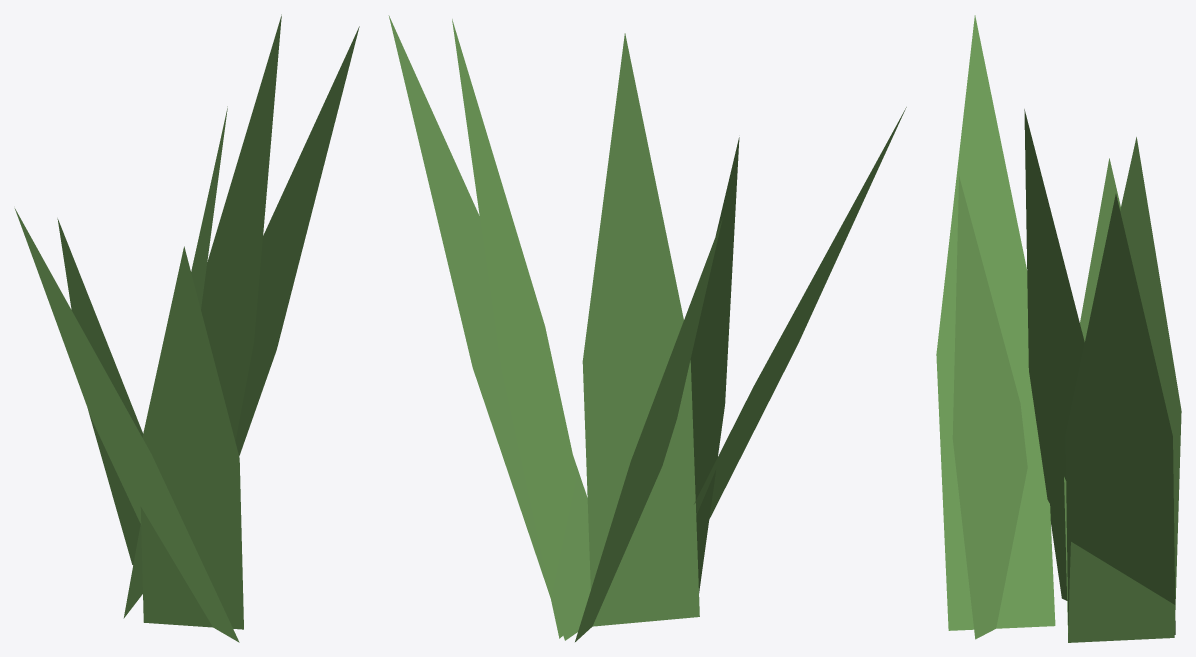
File: tuft.glb
3 renders of one model, left to right at view 1: azimuth 30°, elevation 25°; view 2: azimuth 150°, elevation 25°; view 3: azimuth 270°, elevation 25°, orthographic. The views are drawn at different scales.
Parts seen in each view (by area): view 1: body_nh; view 2: body_nh; view 3: body_nh.
Boxes of the visible parts, x1,y1,x2,y2 form: body_nh: [14, 14, 359, 642]; body_nh: [388, 15, 906, 641]; body_nh: [936, 15, 1181, 642].
Size of the model in its own units: 0.3281 by 0.4042 by 0.1597.
